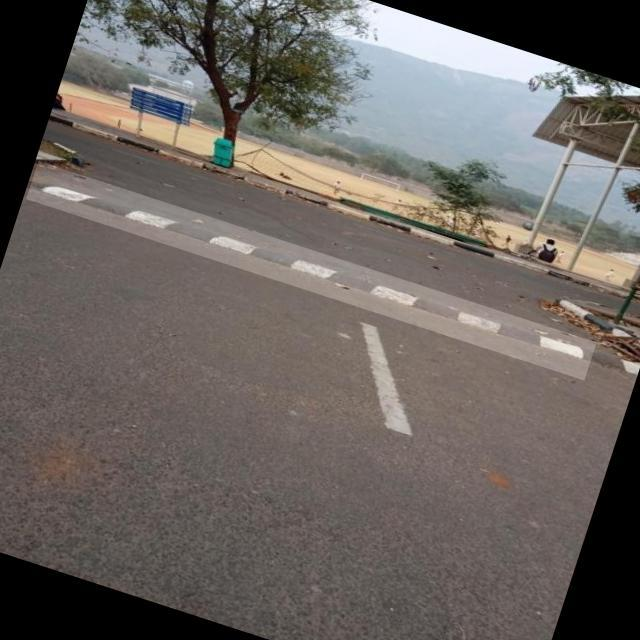speedbreaker: (26, 162, 596, 380)
